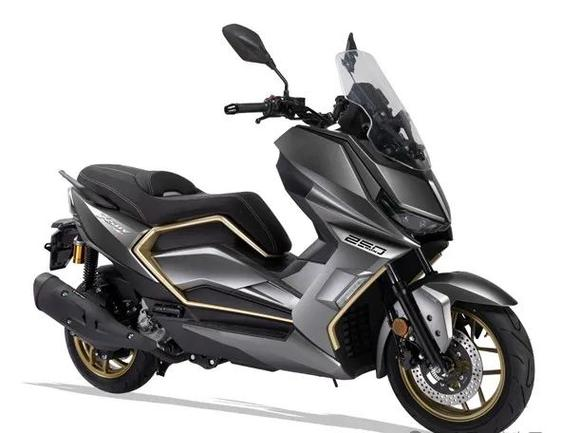摩托车: (35, 22, 537, 430)
